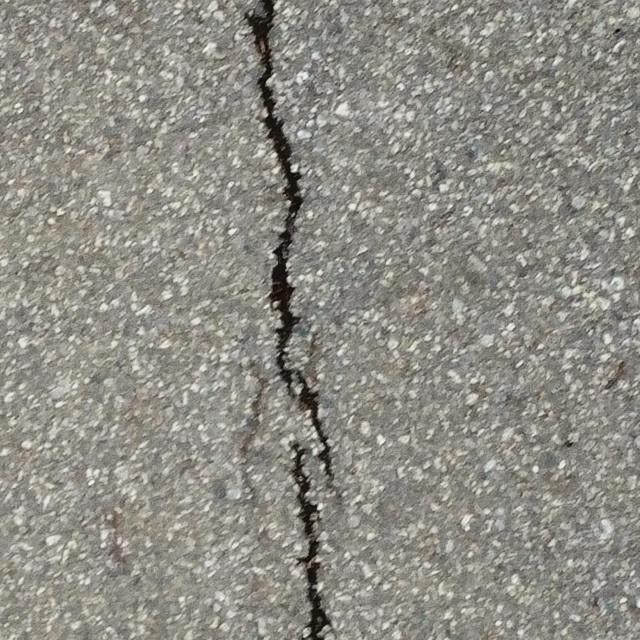LongitudinalCrack: (244, 1, 337, 640)
